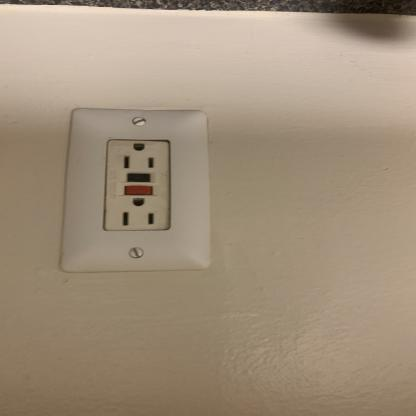OUTLET: (59, 111, 210, 273)
